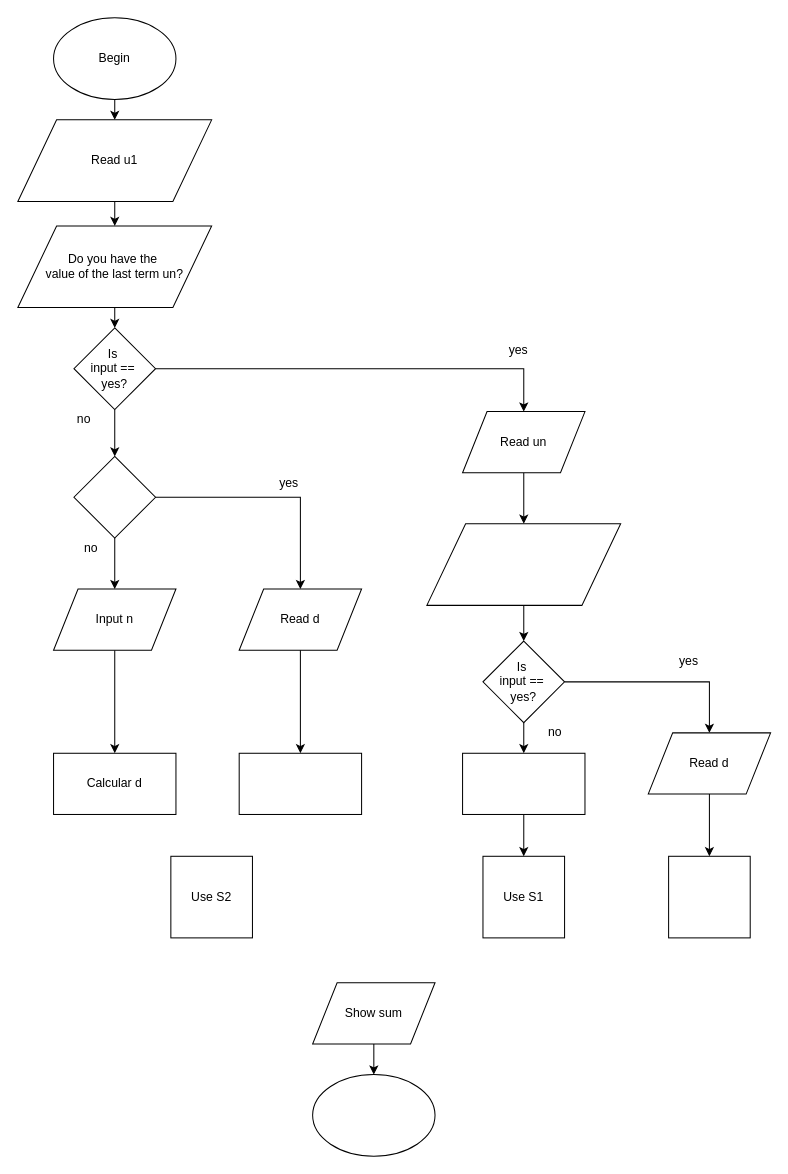
The diagram is 788 pixels wide and 1174 high, and some of its shapes have lost their labels. The centre of each missing label's shape, as x and y in pixels:
Calcular difference: the point at 523,783
Calcular n: the point at 300,783
Do you have d?: the point at 114,496
Do you have the value of the difference d?: the point at 523,564
End: the point at 373,1115
Use S3: the point at 709,896
